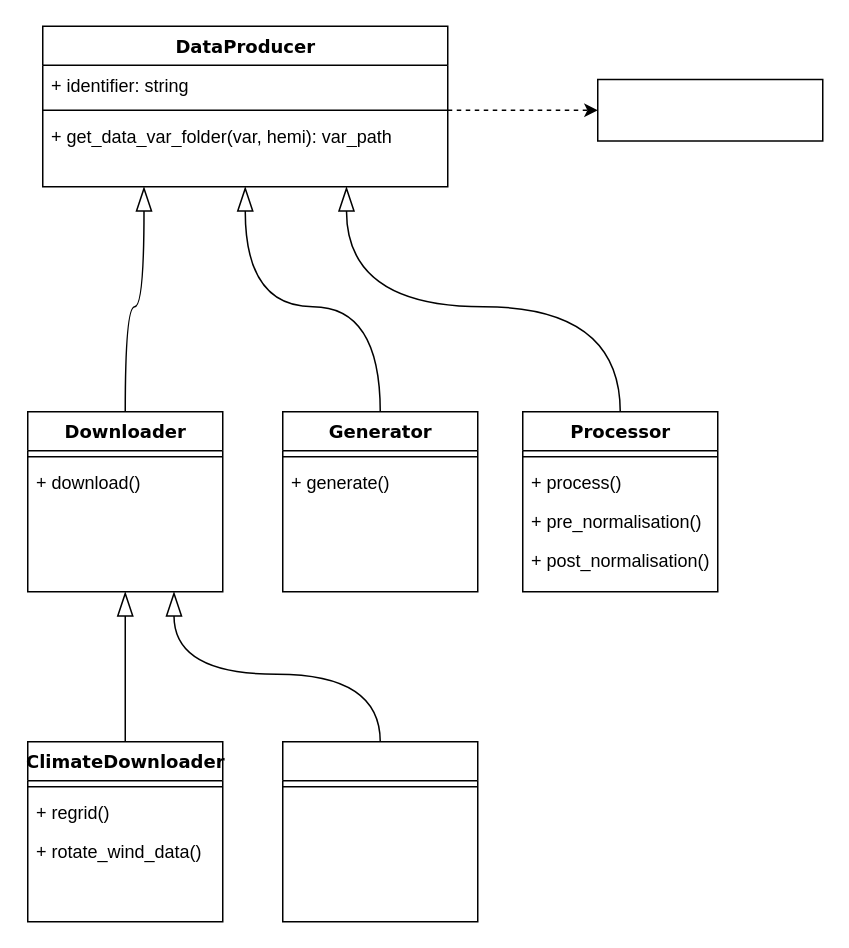
Some shapes in this 849 by 948 pixel diagram are drawn without their labels. The shapes that lost their labels are listed below. From the top down, each one's centre as x and y in pixels, then its label:
At point 709,109: "<<Mixin>> HemisphereMixin".
At point 379,831: "SICDownloader".
